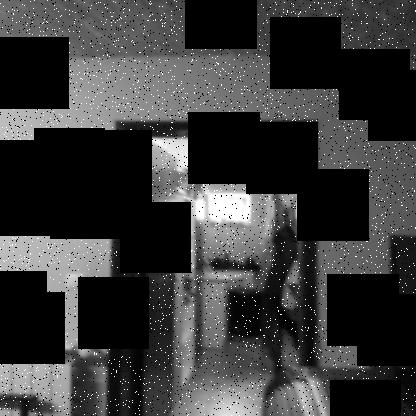Porte: (103, 119, 322, 415)
